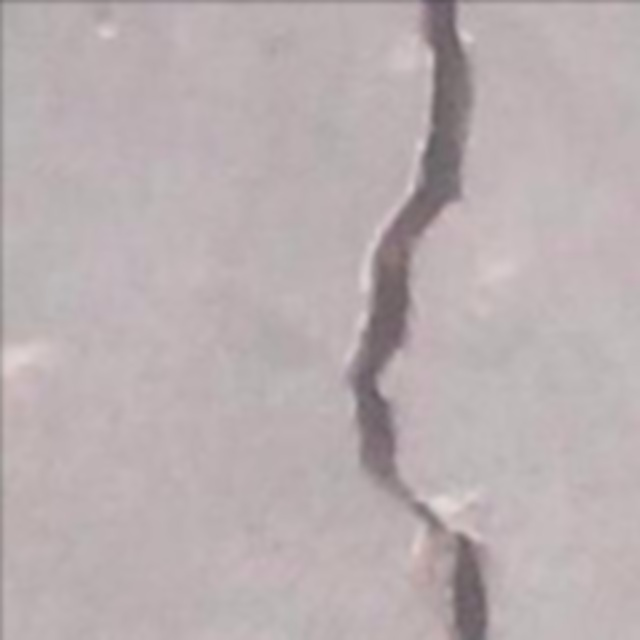SurfaceCrack: (308, 0, 526, 640)
